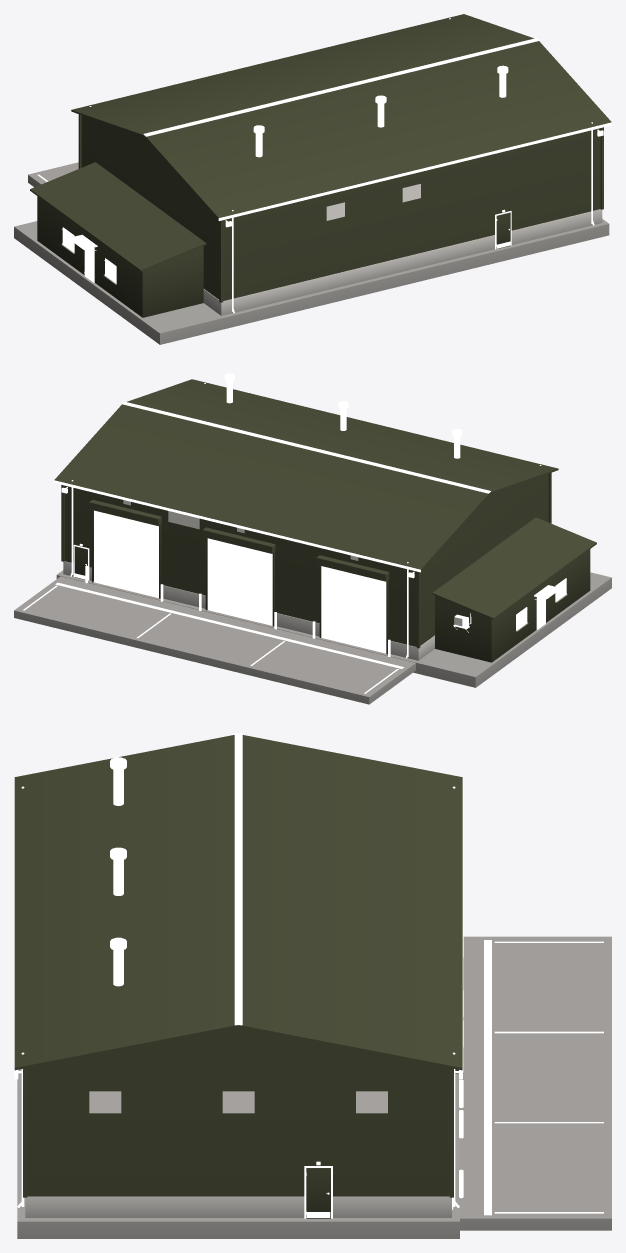
File: vehicle_depot.glb
The picture shows the model from 3 angles, top to bottom: view 1: azimuth 30°, elevation 25°; view 2: azimuth 150°, elevation 25°; view 3: azimuth 270°, elevation 25°; orthographic projection. The views are drawn at different scales.
Parts seen in each view (by area): view 1: vehicle_depot_LOD0; view 2: vehicle_depot_LOD0; view 3: vehicle_depot_LOD0.
Part boxes in pixels (bbox=[...]): vehicle_depot_LOD0: bbox=[14, 14, 611, 344]; vehicle_depot_LOD0: bbox=[14, 373, 611, 704]; vehicle_depot_LOD0: bbox=[14, 733, 611, 1238].
Size of what is drawn, in the model's own units: 30.3 by 10.08 by 22.42.
